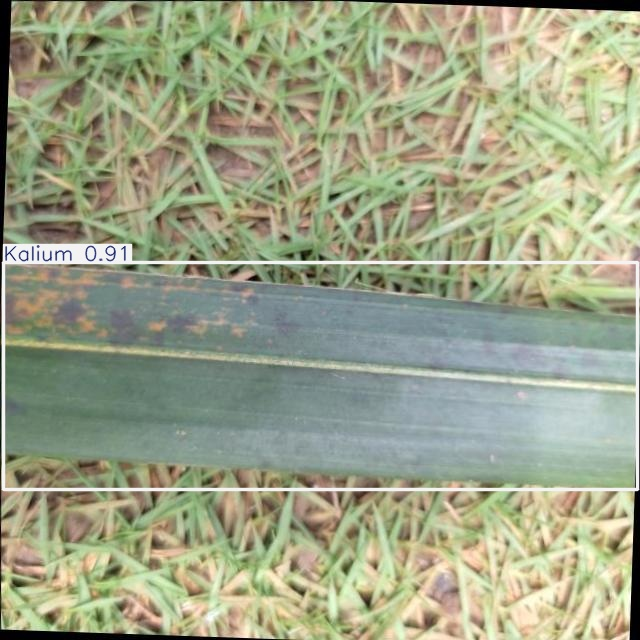Kalium: (3, 262, 638, 490)
